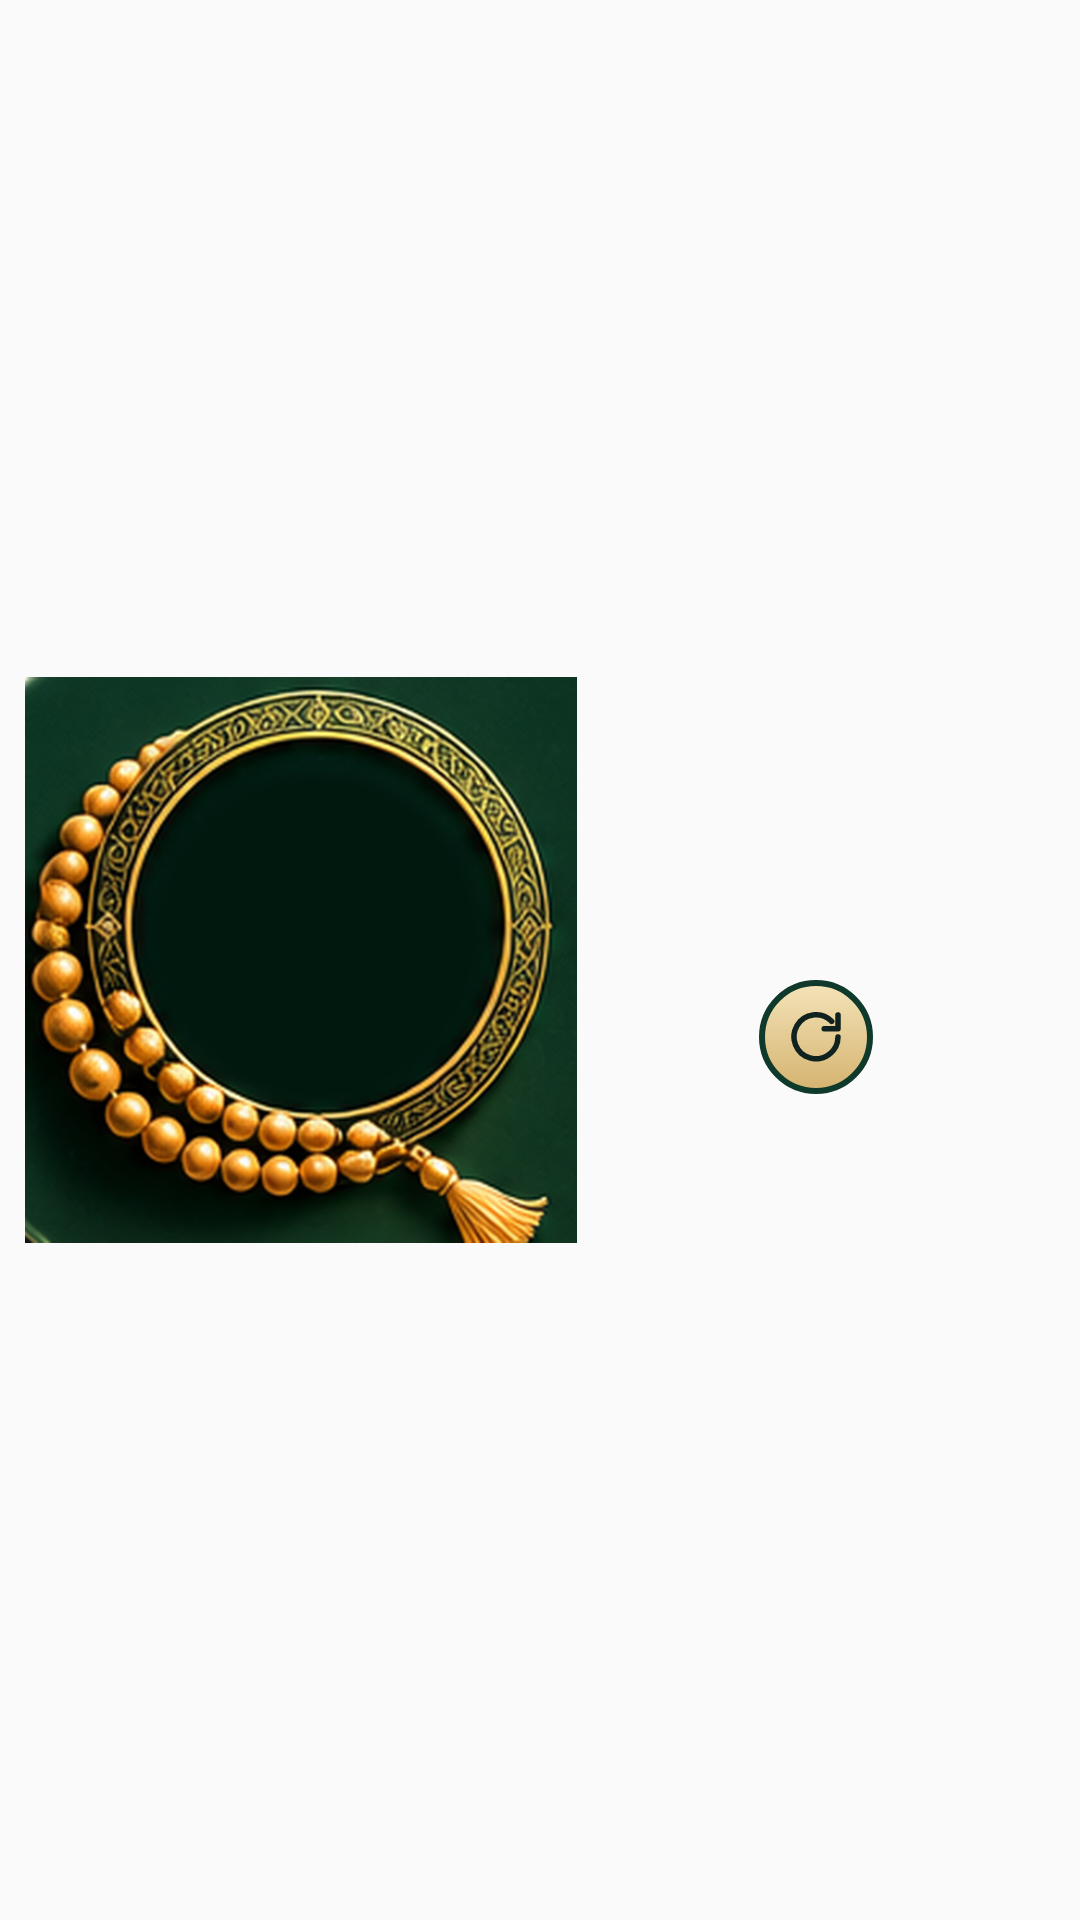

Icon click points for this 1080 x 1920 phone screenshot, format (x,y):
تصفير: (816,1037)
